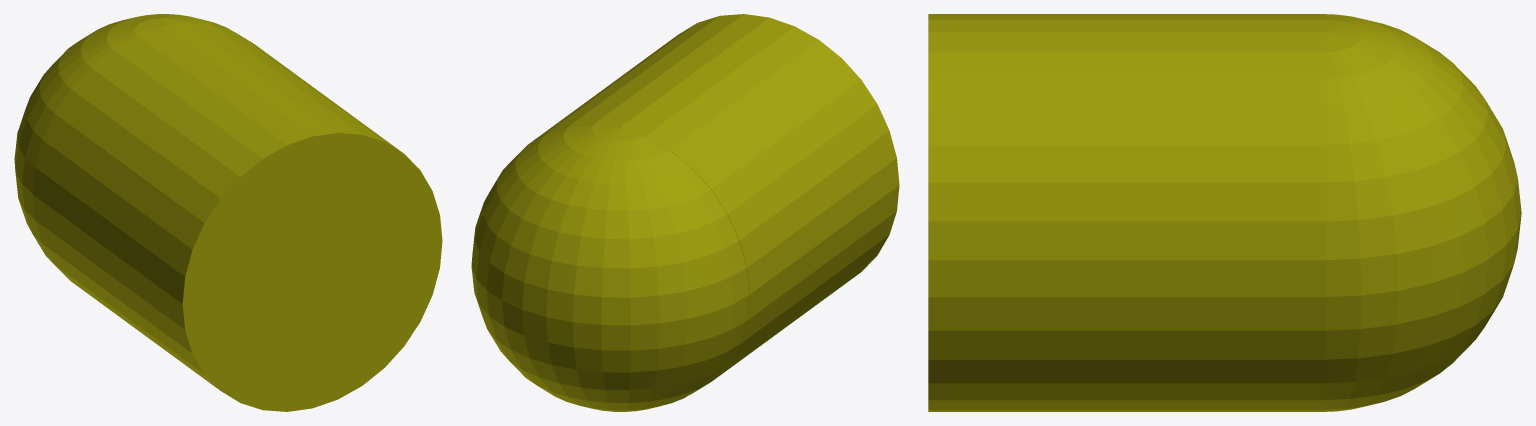
File: Pistol_Bullet.fbx
The picture shows the model from 3 angles, left to right: view 1: azimuth 30°, elevation 25°; view 2: azimuth 150°, elevation 25°; view 3: azimuth 270°, elevation 25°; orthographic projection. The views are drawn at different scales.
Visible parts, largest first — view 1: Sphere; view 2: Sphere; view 3: Sphere.
Part boxes in pixels (box(x1,y1,x2,y2)): Sphere: box(14, 14, 442, 411); Sphere: box(471, 14, 899, 411); Sphere: box(928, 14, 1521, 411).
Size of the model in its own units: 200 by 200 by 298.
